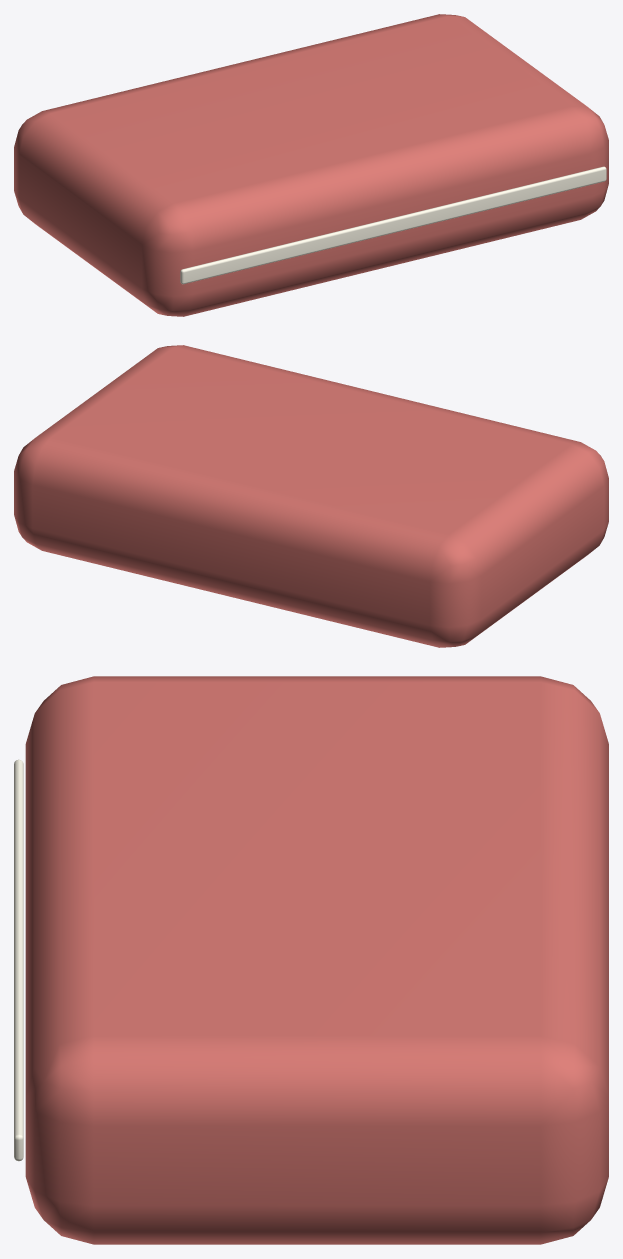
Rendered from bathroomTowelRed.glb.
3 views of the same model, one above another, from view 1: azimuth 30°, elevation 25°; view 2: azimuth 150°, elevation 25°; view 3: azimuth 270°, elevation 25° (orthographic). The views are drawn at different scales.
Parts seen in each view (by area): view 1: Folded towel, Towel fold; view 2: Folded towel; view 3: Folded towel, Towel fold.
Part boxes in pixels (x1,y1,x2,y2): Folded towel: (14,14,608,316); Towel fold: (180,166,606,284); Folded towel: (14,345,608,647); Folded towel: (25,676,608,1244); Towel fold: (14,759,23,1161).
Bounding box in the file's own units: 1 × 0.23 × 0.612.
